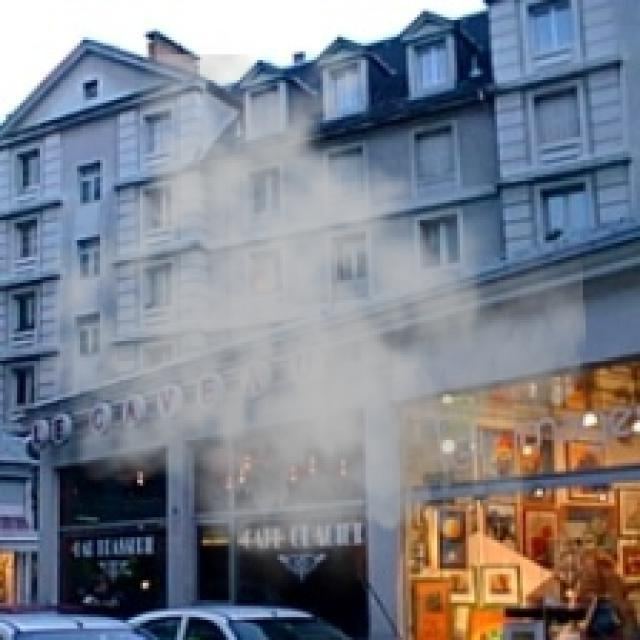Smoke: (26, 54, 588, 612)
